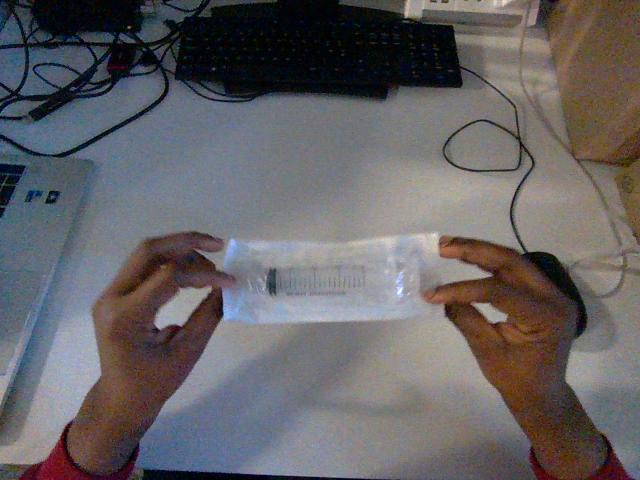syringe: (223, 233, 438, 322)
